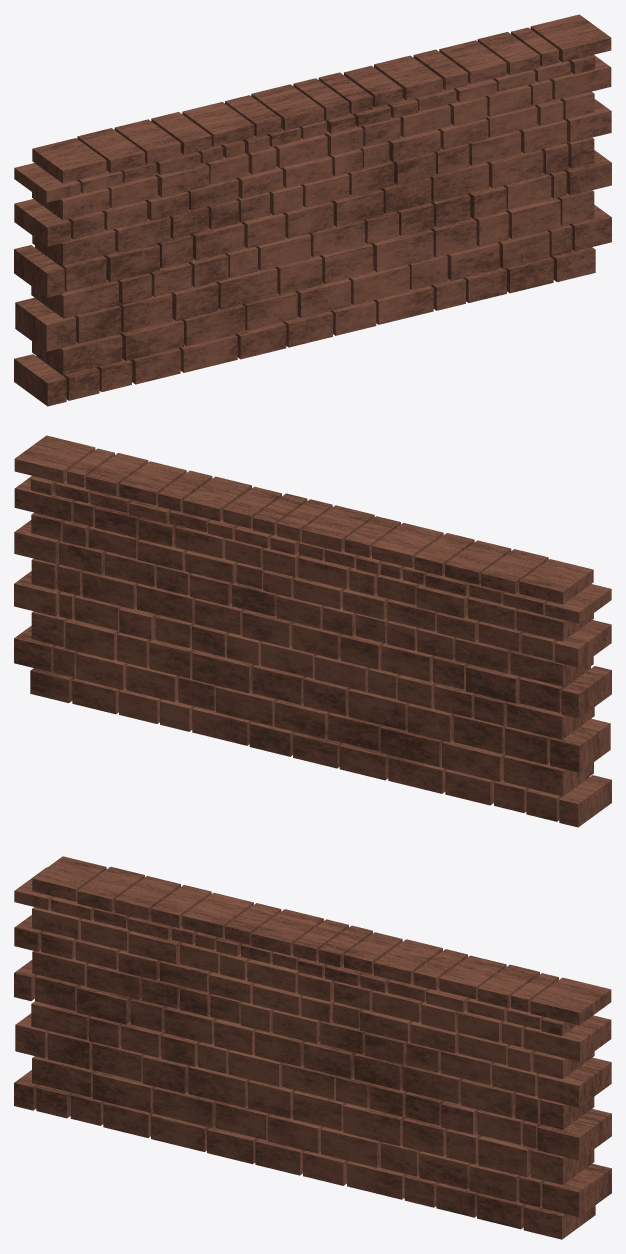
The model's file is wall_last.fbx.
3 renders of one model, top to bottom at view 1: azimuth 30°, elevation 25°; view 2: azimuth 150°, elevation 25°; view 3: azimuth 330°, elevation 25°, orthographic.
Visible parts, largest first — view 1: Wall.005; view 2: Wall.005; view 3: Wall.005.
Part boxes in pixels (<box>): Wall.005: <box>14,14,611,406</box>; Wall.005: <box>14,435,611,827</box>; Wall.005: <box>14,856,611,1239</box>.
Size of the model in its own units: 2027 by 790 by 210.
